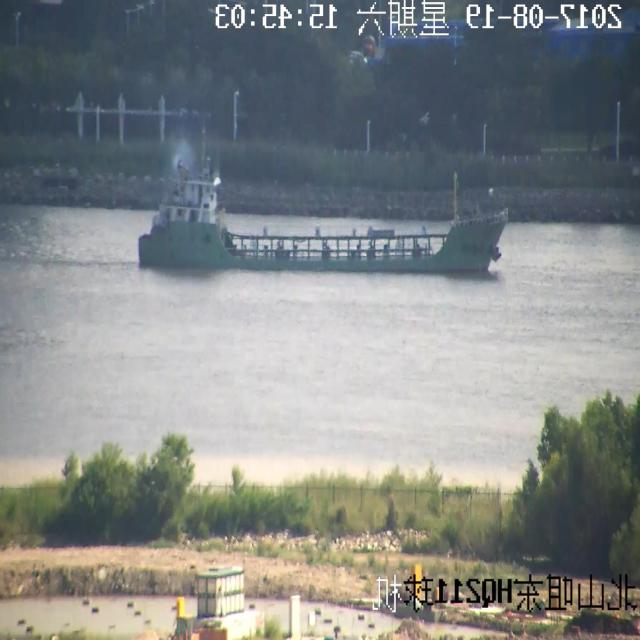houseboat: (139, 132, 508, 280)
